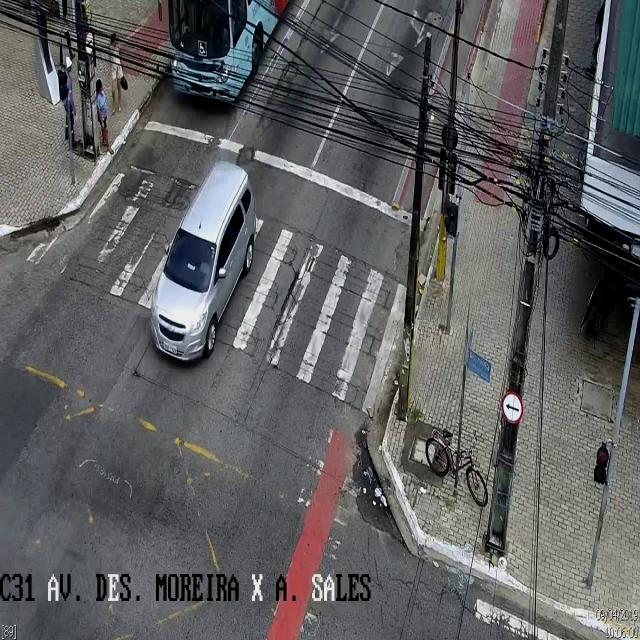Bus: (173, 0, 304, 106)
Car: (150, 159, 256, 366)
